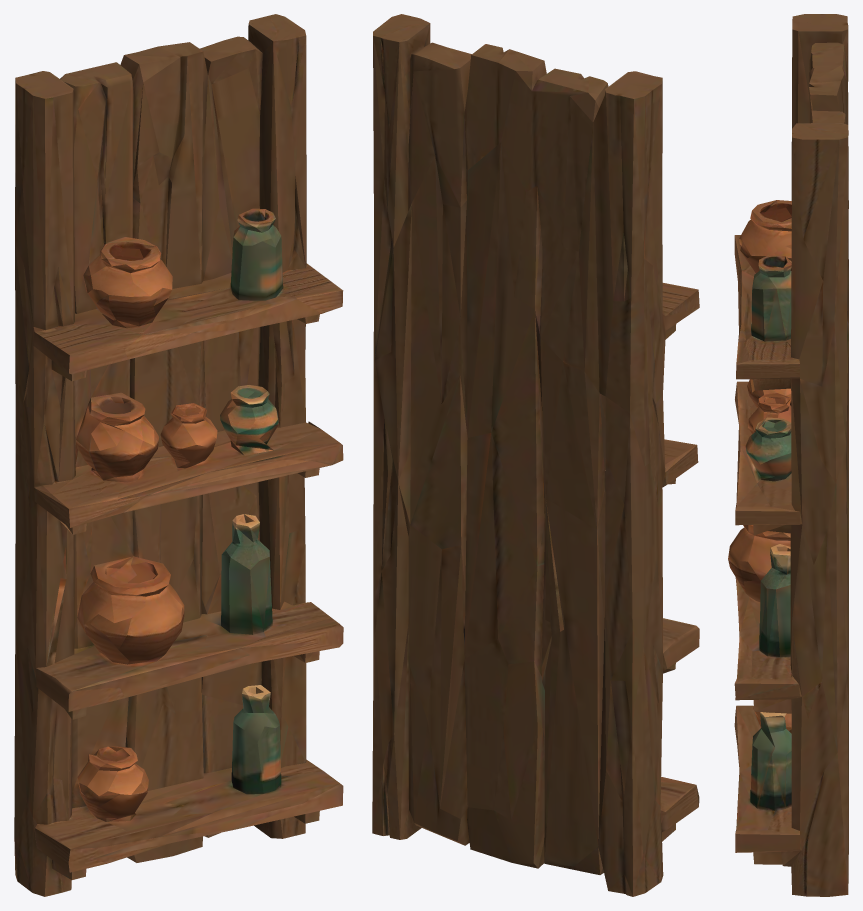
File: shelf.glb
The picture shows the model from 3 angles, left to right: view 1: azimuth 30°, elevation 25°; view 2: azimuth 150°, elevation 25°; view 3: azimuth 270°, elevation 25°; orthographic projection. The views are drawn at different scales.
Parts seen in each view (by area): view 1: output_unwrapped; view 2: output_unwrapped; view 3: output_unwrapped.
Boxes of the visible parts, <box> form: output_unwrapped: <box>14,14,343,896</box>; output_unwrapped: <box>372,14,699,896</box>; output_unwrapped: <box>728,14,848,896</box>.
Bounding box in the file's own units: 0.6867 × 1.9 × 0.2746.
1 material, 1 textured.
